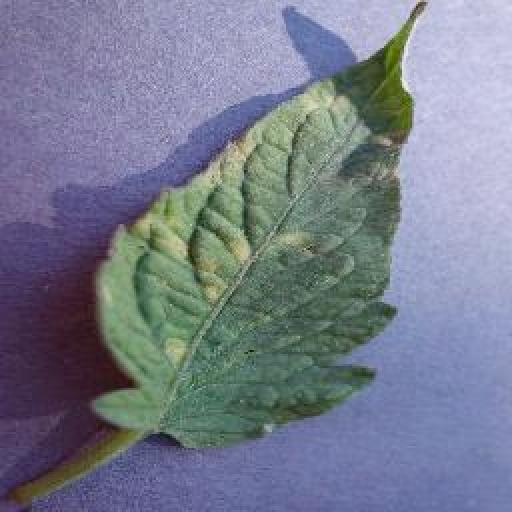disease_tomato: (90, 2, 427, 450)
